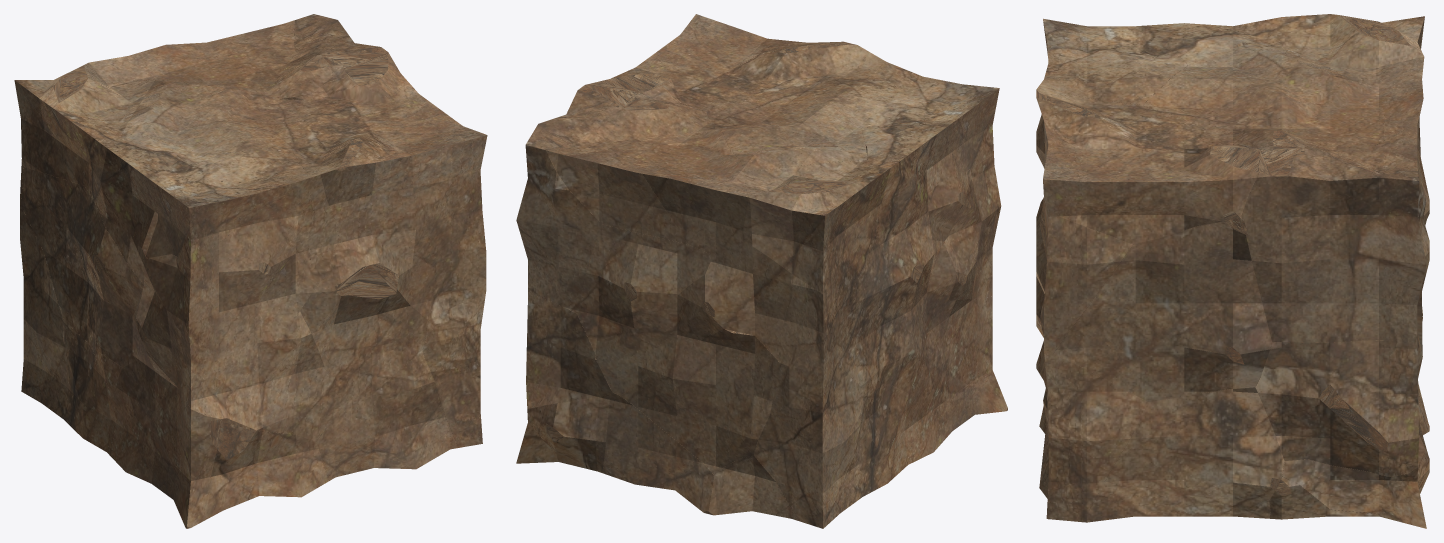
Rendered from rock.glb.
3 views of the same model, side by side, from view 1: azimuth 30°, elevation 25°; view 2: azimuth 150°, elevation 25°; view 3: azimuth 270°, elevation 25° (orthographic). The views are drawn at different scales.
Visible parts, largest first — view 1: Cube_cell.013, Cube_cell.028, Cube_cell.033, Cube_cell.023, Cube_cell.015, Cube_cell.031, Cube_cell.019, Cube_cell.027, Cube_cell.022, Cube_cell.029, Cube_cell.011, Cube_cell.024 (+10 smaller); view 2: Cube_cell.023, Cube_cell.028, Cube_cell.027, Cube_cell.010, Cube_cell.024, Cube_cell.025, Cube_cell.004, Cube_cell.031, Cube_cell.016, Cube_cell.018, Cube_cell.011, Cube_cell.022 (+11 smaller); view 3: Cube_cell.025, Cube_cell, Cube_cell.028, Cube_cell.008, Cube_cell.005, Cube_cell.007, Cube_cell.022, Cube_cell.024, Cube_cell.027, Cube_cell.033, Cube_cell.026, Cube_cell.006 (+7 smaller).
Boxes of the visible parts, bbox=[...] form: Cube_cell.013: bbox=[136, 173, 338, 418]; Cube_cell.028: bbox=[290, 58, 487, 223]; Cube_cell.033: bbox=[337, 166, 486, 320]; Cube_cell.023: bbox=[21, 167, 145, 367]; Cube_cell.015: bbox=[300, 241, 428, 405]; Cube_cell.031: bbox=[110, 351, 221, 528]; Cube_cell.019: bbox=[317, 350, 458, 480]; Cube_cell.027: bbox=[14, 62, 153, 185]; Cube_cell.022: bbox=[122, 79, 303, 150]; Cube_cell.029: bbox=[220, 311, 342, 440]; Cube_cell.011: bbox=[76, 125, 192, 284]; Cube_cell.024: bbox=[90, 43, 332, 99]; Cube_cell.023: bbox=[824, 233, 956, 393]; Cube_cell.028: bbox=[598, 14, 868, 110]; Cube_cell.027: bbox=[741, 160, 887, 297]; Cube_cell.010: bbox=[620, 329, 783, 474]; Cube_cell.024: bbox=[607, 99, 749, 253]; Cube_cell.025: bbox=[516, 82, 654, 313]; Cube_cell.004: bbox=[754, 340, 865, 528]; Cube_cell.031: bbox=[909, 296, 1007, 462]; Cube_cell.016: bbox=[577, 224, 710, 352]; Cube_cell.018: bbox=[705, 240, 824, 367]; Cube_cell.011: bbox=[861, 122, 965, 241]; Cube_cell.022: bbox=[704, 93, 867, 171]; Cube_cell.025: bbox=[1241, 145, 1426, 342]; Cube_cell: bbox=[1053, 216, 1272, 401]; Cube_cell.028: bbox=[1036, 85, 1259, 244]; Cube_cell.008: bbox=[1255, 338, 1424, 476]; Cube_cell.005: bbox=[1082, 387, 1284, 522]; Cube_cell.007: bbox=[1044, 354, 1148, 521]; Cube_cell.022: bbox=[1142, 42, 1356, 134]; Cube_cell.024: bbox=[1238, 57, 1424, 158]; Cube_cell.027: bbox=[1261, 14, 1424, 82]; Cube_cell.033: bbox=[1036, 197, 1132, 355]; Cube_cell.026: bbox=[1063, 26, 1187, 105]; Cube_cell.006: bbox=[1282, 459, 1396, 514].
Size of the model in its own units: 11.02 by 11.02 by 11.02.
1 material, 1 textured.
